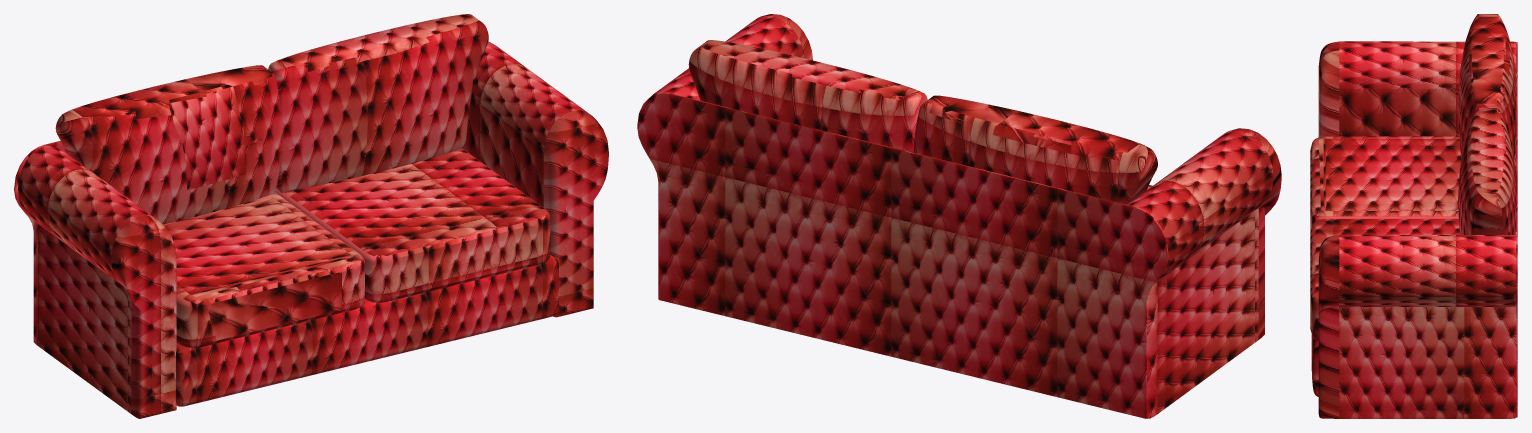
File: sofa11.glb
3 renders of one model, left to right at view 1: azimuth 30°, elevation 25°; view 2: azimuth 150°, elevation 25°; view 3: azimuth 270°, elevation 25°, orthographic. The views are drawn at different scales.
Parts seen in each view (by area): view 1: sofa4; view 2: sofa4; view 3: sofa4.
Boxes of the visible parts, <box> form: sofa4: <box>14,14,608,418</box>; sofa4: <box>637,14,1281,418</box>; sofa4: <box>1310,14,1517,418</box>.
Bounding box in the file's own units: 5.46 × 2.47 × 2.19.
1 material, 1 textured.
